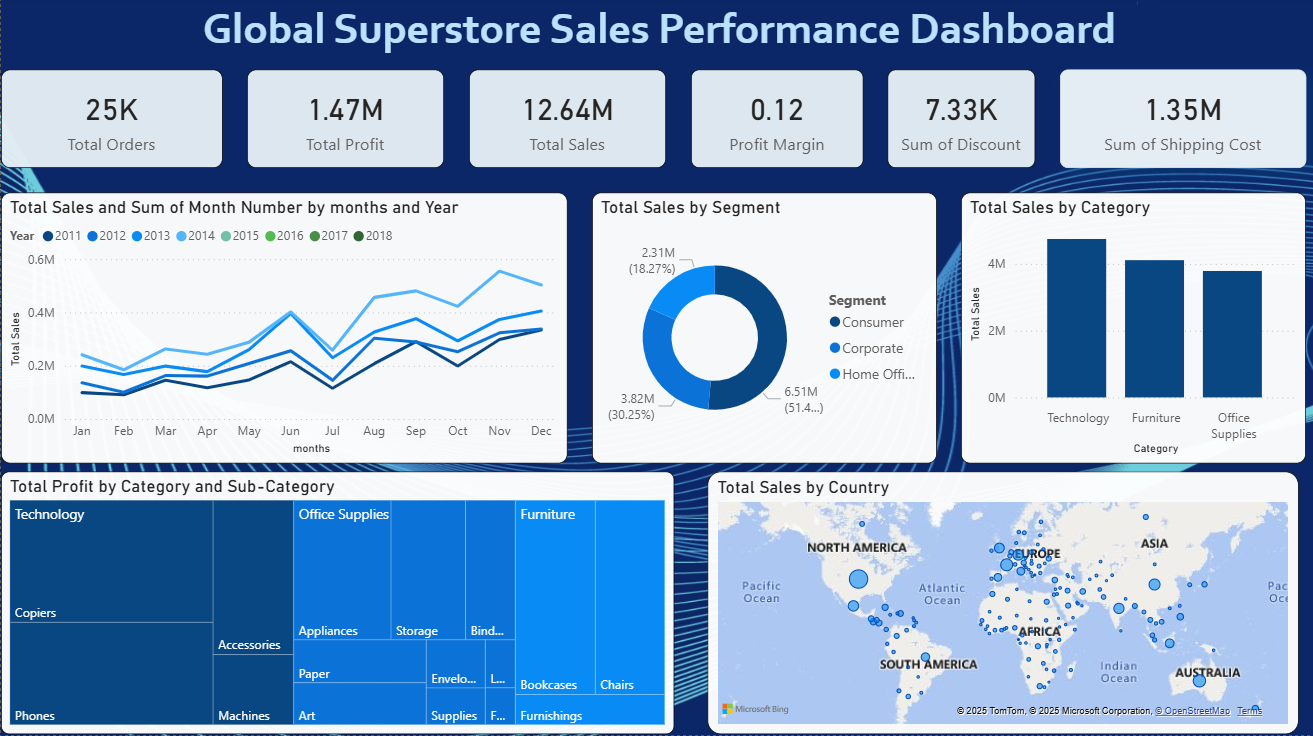

The dashboard page shown, as its layout file describes it:
{"tool":"powerbi","page":{"name":"Page 2","canvas":[1280,720],"ordinal":0},"visuals":[{"type":"treemap","fields":{"Group":["Orders.Category"],"Details":["Orders.Sub-Category"],"Values":["Orders.Total Profit"]},"box":[0,464,656,256],"z":0},{"type":"donutChart","fields":{"Category":["Orders.Segment"],"Y":["Orders.Total Sales"]},"box":[576,192,336,264],"z":1000},{"type":"lineChart","fields":{"Y":["Orders.Total Sales"],"Series":["DateTable.Year"],"Category":["DateTable.months"]},"box":[0,192,552,264],"z":2000},{"type":"card","fields":{"Values":["Sum(Orders.Shipping Cost)"]},"box":[1032,72,240,96],"z":3000},{"type":"map","fields":{"Category":["Orders.Country"],"Size":["Orders.Total Sales"]},"box":[688,464,576,256],"z":4000},{"type":"card","fields":{"Values":["Orders.Total Orders"]},"box":[0,72,216,96],"z":5000},{"type":"card","fields":{"Values":["Orders.Total Profit"]},"box":[240,72,192,96],"z":6000},{"type":"card","fields":{"Values":["Orders.Total Sales"]},"box":[456,72,192,96],"z":7000},{"type":"card","fields":{"Values":["Orders.Profit Margin"]},"box":[672,72,168,96],"z":8000},{"type":"card","fields":{"Values":["Sum(Orders.Discount)"]},"box":[864,72,144,96],"z":9000},{"type":"columnChart","fields":{"Category":["Orders.Category"],"Y":["Orders.Total Sales"]},"box":[936,192,336,264],"z":10000},{"type":"textbox","box":[192,0,928,64],"z":11000}]}

Visuals, with their boxes in screenshot pixels (x1, y1, x2, y2), scaled from the page's 1280x720 canvas onto the 1313x736 screenshot:
treemap - Orders.Category x Orders.Sub-Category: 0,474,673,735
donutChart - Orders.Segment x Orders.Total Sales: 591,196,936,466
lineChart - Orders.Total Sales x DateTable.Year: 0,196,566,466
card - Sum(Orders.Shipping Cost): 1059,74,1305,172
map - Orders.Country x Orders.Total Sales: 706,474,1297,735
card - Orders.Total Orders: 0,74,222,172
card - Orders.Total Profit: 246,74,443,172
card - Orders.Total Sales: 468,74,665,172
card - Orders.Profit Margin: 689,74,862,172
card - Sum(Orders.Discount): 886,74,1034,172
columnChart - Orders.Category x Orders.Total Sales: 960,196,1305,466
textbox: 197,0,1149,65
